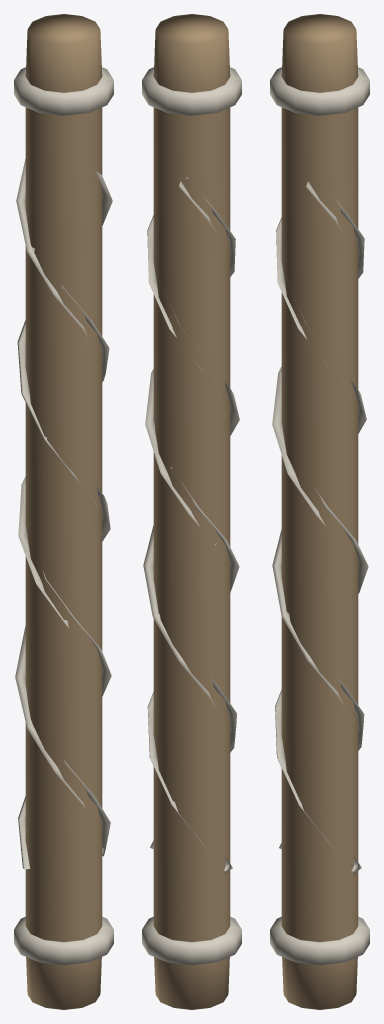
The model's file is exterior_rare.glb.
3 renders of one model, left to right at view 1: azimuth 30°, elevation 25°; view 2: azimuth 150°, elevation 25°; view 3: azimuth 330°, elevation 25°, orthographic.
Visible parts, largest first — view 1: exterior_rare; view 2: exterior_rare; view 3: exterior_rare.
Part boxes in pixels (<box>): exterior_rare: <box>14,14,113,1009</box>; exterior_rare: <box>142,14,241,1009</box>; exterior_rare: <box>270,14,369,1009</box>.
Bounding box in the file's own units: 0.0936 × 1 × 0.0936.
